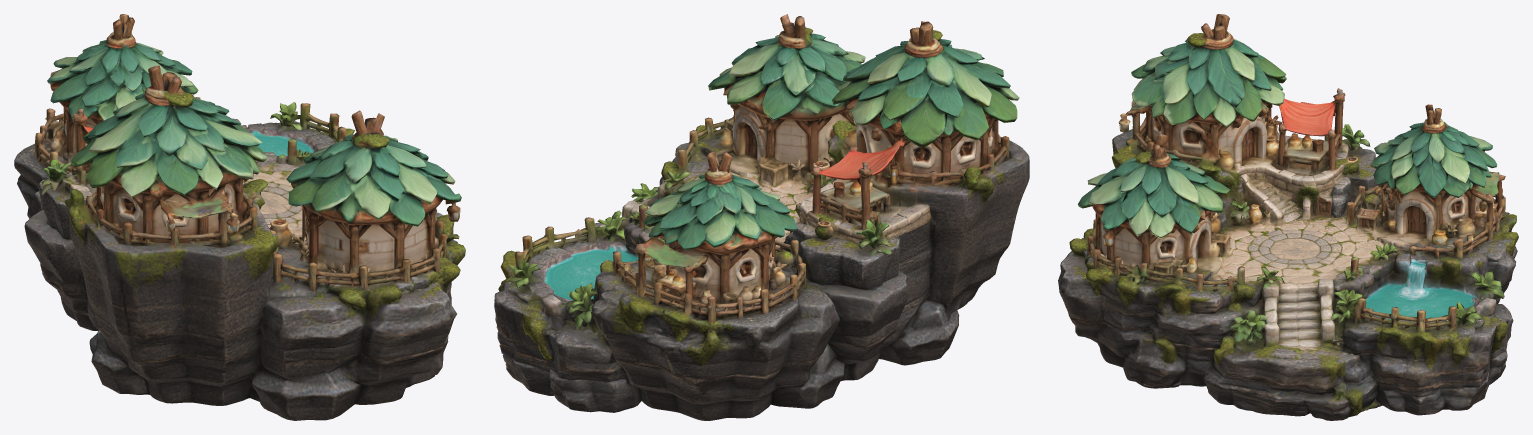
Rendered from village.glb.
3 views of the same model, side by side, from view 1: azimuth 30°, elevation 25°; view 2: azimuth 150°, elevation 25°; view 3: azimuth 270°, elevation 25° (orthographic). The views are drawn at different scales.
Parts seen in each view (by area): view 1: tripo_node_5539eee4-625d-46b7-90f6-b7fdde3fd9d2; view 2: tripo_node_5539eee4-625d-46b7-90f6-b7fdde3fd9d2; view 3: tripo_node_5539eee4-625d-46b7-90f6-b7fdde3fd9d2.
Part boxes in pixels (<box>): tripo_node_5539eee4-625d-46b7-90f6-b7fdde3fd9d2: <box>14,14,465,420</box>; tripo_node_5539eee4-625d-46b7-90f6-b7fdde3fd9d2: <box>494,14,1029,420</box>; tripo_node_5539eee4-625d-46b7-90f6-b7fdde3fd9d2: <box>1058,14,1518,420</box>.
Size of the model in its own units: 0.8358 by 0.6648 by 0.9821.
Materials: 1 (1 with a texture image).
